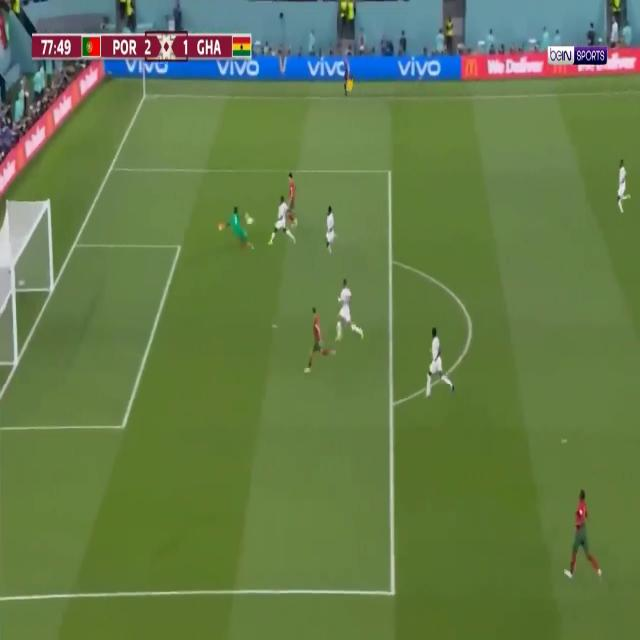Ball: (247, 217, 254, 226)
GoalKeeper: (219, 206, 254, 253)
Referee: (340, 51, 352, 97)
TEAM 1: (564, 486, 602, 580), (302, 305, 336, 376), (286, 168, 300, 228)
TEAM 2: (422, 326, 454, 401), (334, 278, 364, 344), (268, 195, 296, 246), (616, 158, 630, 214), (325, 205, 338, 258)
